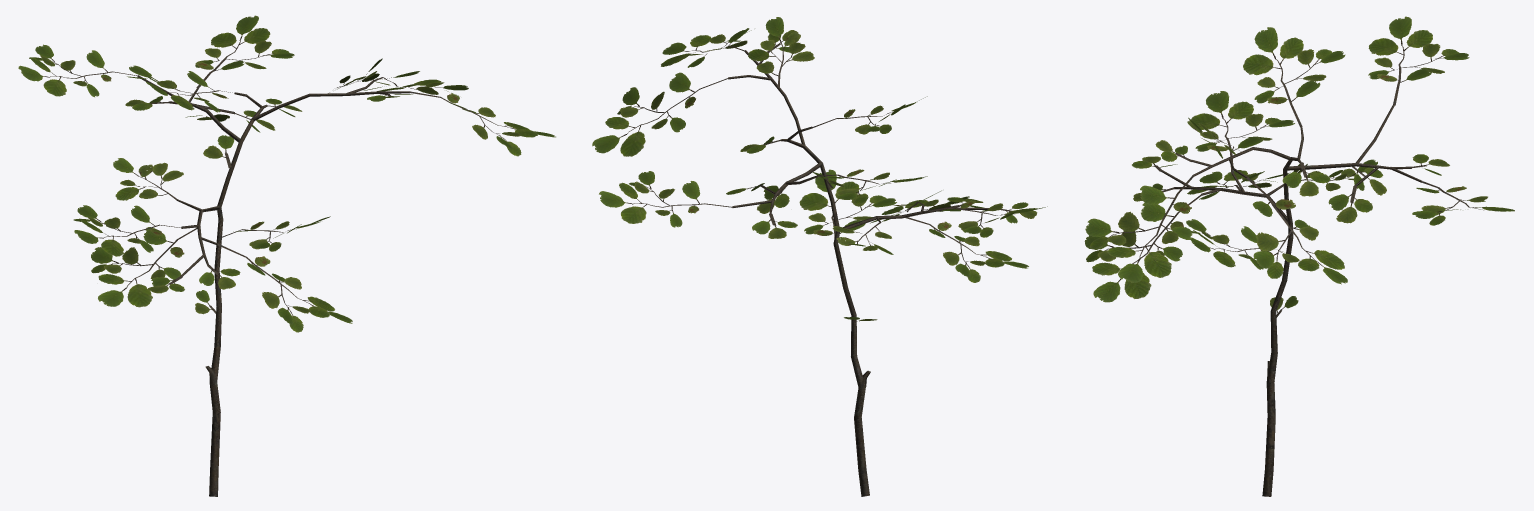
File: SM_BlackAlder_Sapling_02_PP_LOD3.gltf
The picture shows the model from 3 angles, left to right: view 1: azimuth 30°, elevation 25°; view 2: azimuth 150°, elevation 25°; view 3: azimuth 270°, elevation 25°; orthographic projection. The views are drawn at different scales.
Parts seen in each view (by area): view 1: SM_BlackAlder_Sapling_02_PP; view 2: SM_BlackAlder_Sapling_02_PP; view 3: SM_BlackAlder_Sapling_02_PP.
Part boxes in pixels (x1,y1,x2,y2): SM_BlackAlder_Sapling_02_PP: (18, 15, 555, 496); SM_BlackAlder_Sapling_02_PP: (592, 17, 1047, 496); SM_BlackAlder_Sapling_02_PP: (1084, 16, 1514, 496).
Size of the model in its own units: 1.68 by 1.59 by 1.43.
Materials: 1 (1 with a texture image).
